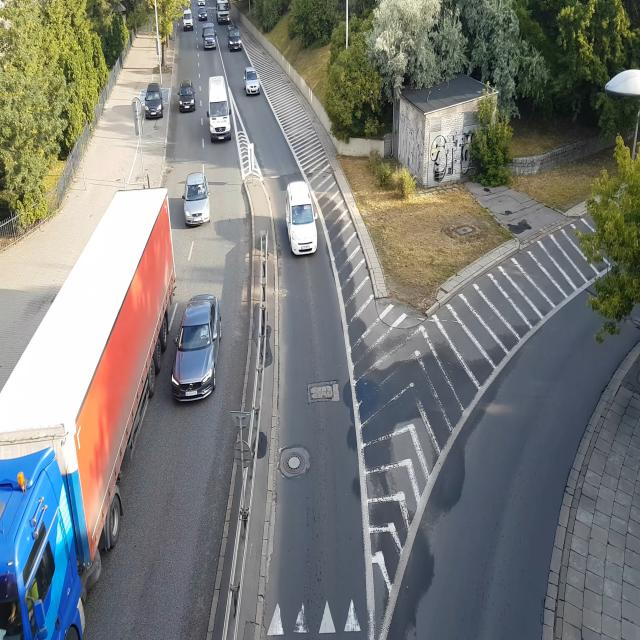car: (171, 289, 225, 404), (284, 176, 322, 261), (206, 72, 236, 144), (182, 169, 215, 230), (177, 78, 198, 119), (241, 65, 266, 99), (143, 83, 166, 118), (228, 27, 245, 54), (201, 26, 220, 49), (180, 8, 197, 33), (197, 8, 210, 23), (197, 0, 206, 10)
truck: (0, 181, 170, 640), (216, 0, 231, 25)
